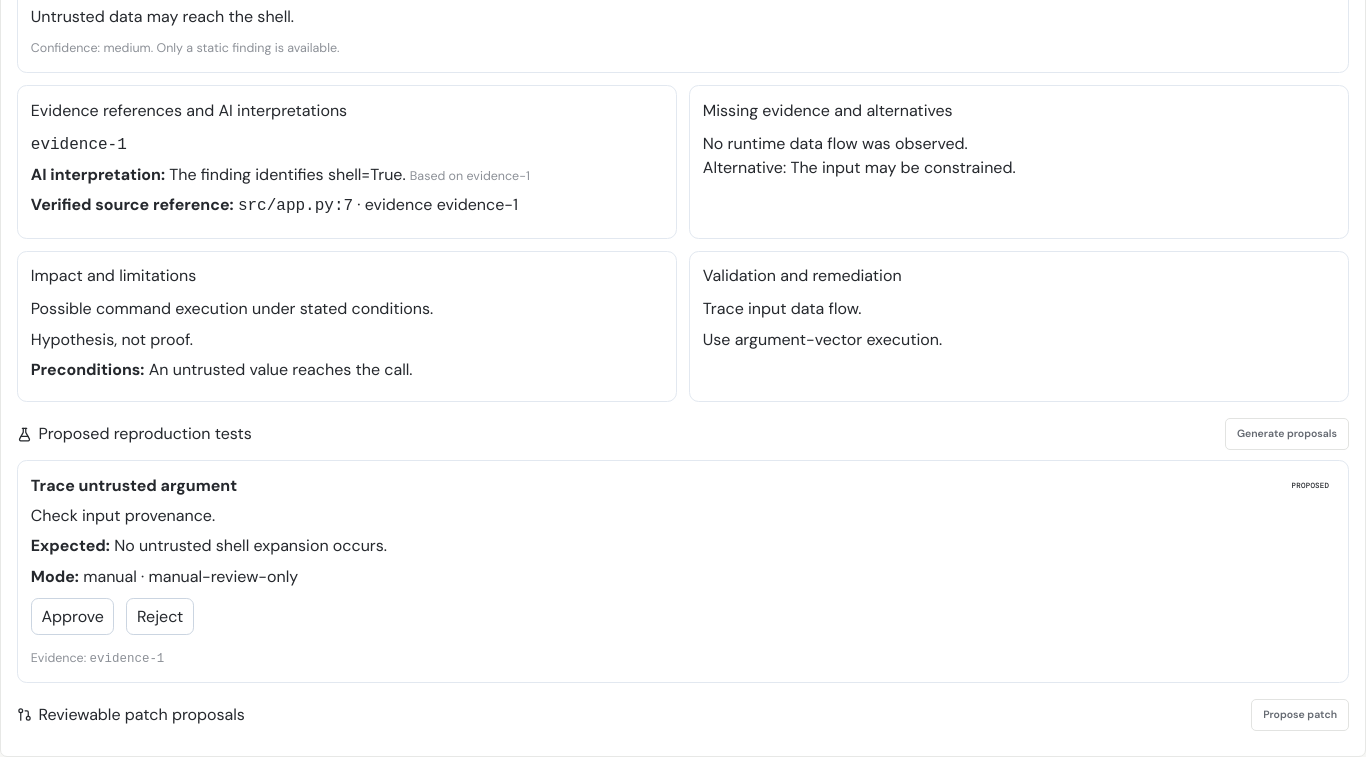
Test case: AI investigation panel › persists a human test decision and does not execute a manual-only proposal
The image size is (1366, 757).
(page scrolled)
Click the button "Approve" at (73, 617), box [31, 598, 114, 636]
(page scrolled)
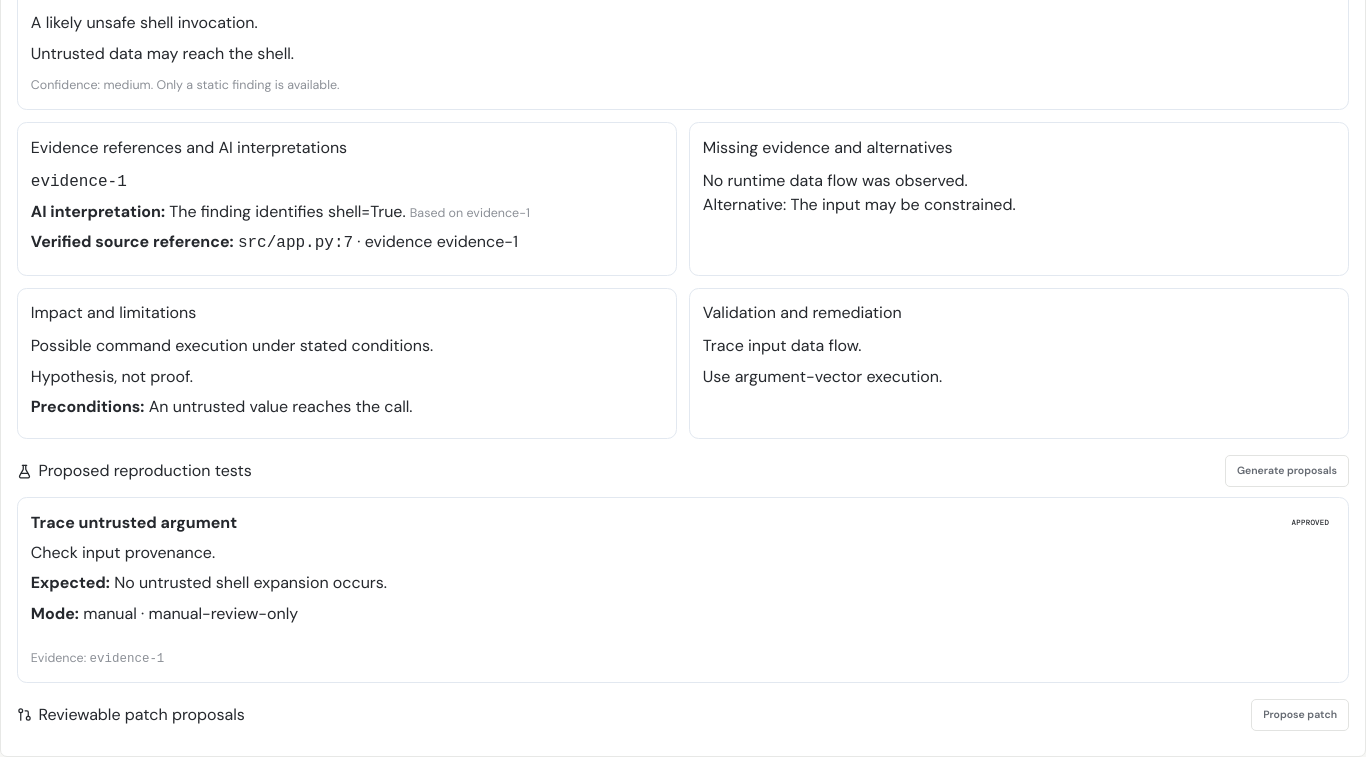
Expected: the text "approved" is shown, [1292, 518, 1329, 527]
